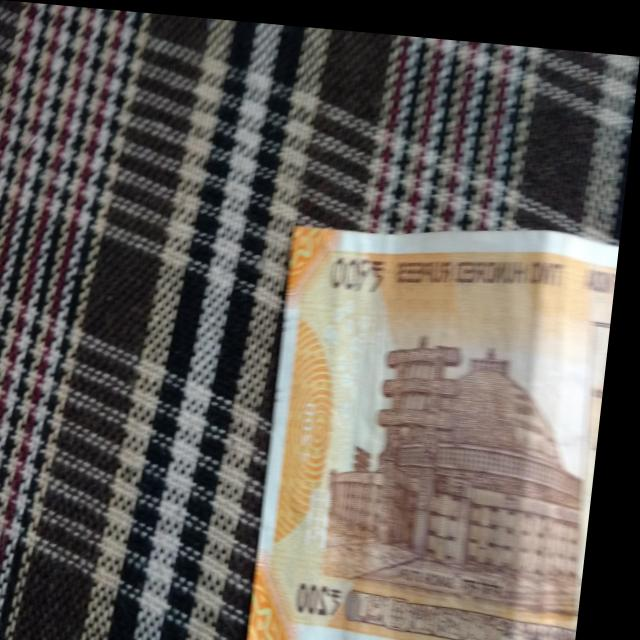Currency: (237, 220, 623, 640)
